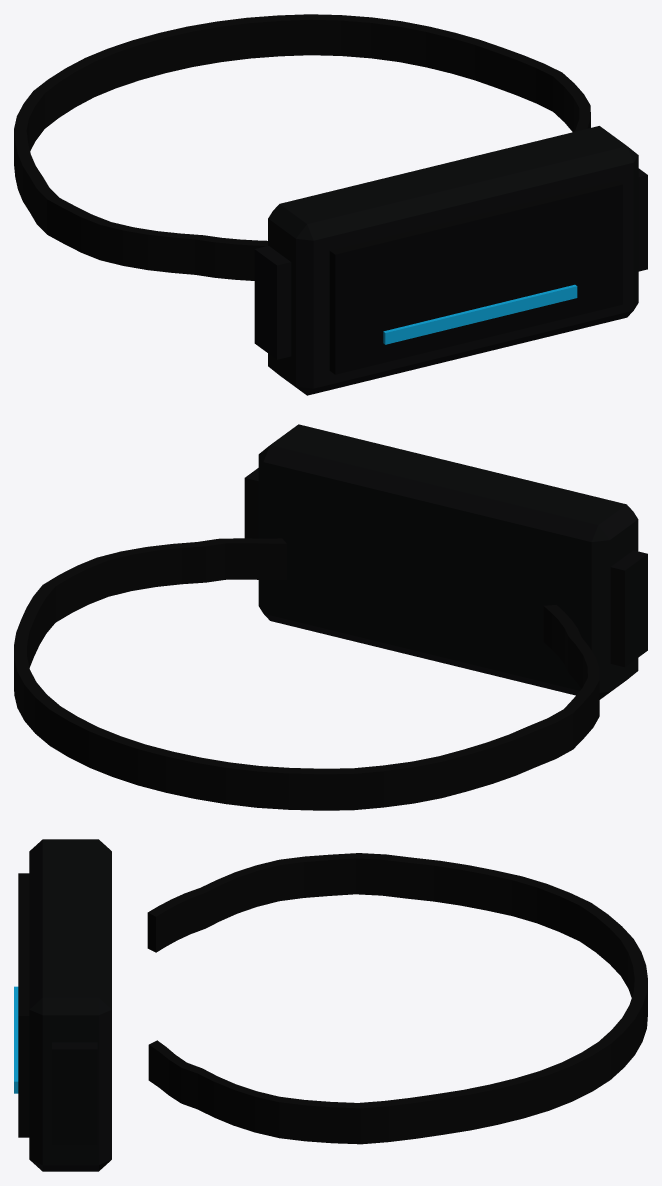
Rendered from eyes_vr_male_lo.glb.
3 renders of one model, top to bottom at view 1: azimuth 30°, elevation 25°; view 2: azimuth 150°, elevation 25°; view 3: azimuth 270°, elevation 25°, orthographic. The views are drawn at different scales.
Parts seen in each view (by area): view 1: eyes_vr_v5_male; view 2: eyes_vr_v5_male; view 3: eyes_vr_v5_male.
Boxes of the visible parts, <box> form: eyes_vr_v5_male: <box>14,14,647,395</box>; eyes_vr_v5_male: <box>14,424,647,810</box>; eyes_vr_v5_male: <box>14,839,647,1171</box>.
Bounding box in the file's own units: 0.5485 × 0.1741 × 0.5754.
